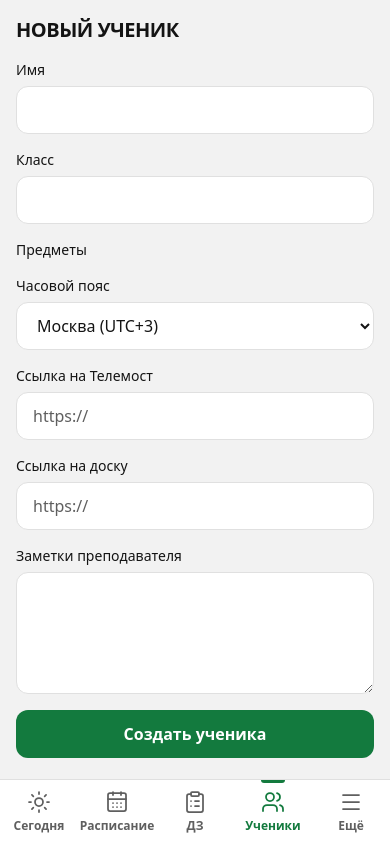
Ученик: карточка и форма › создание: отправляет данные и открывает карточку с приглашением
Type "Аня Иванова" into the field labelled "Имя" at (195, 110), box 16,86 -> 374,134
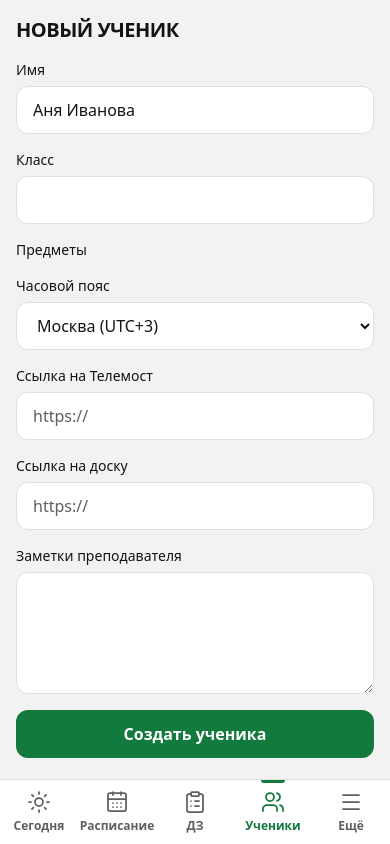
Click the button "Создать ученика" at (195, 734), box 16,710 -> 374,758
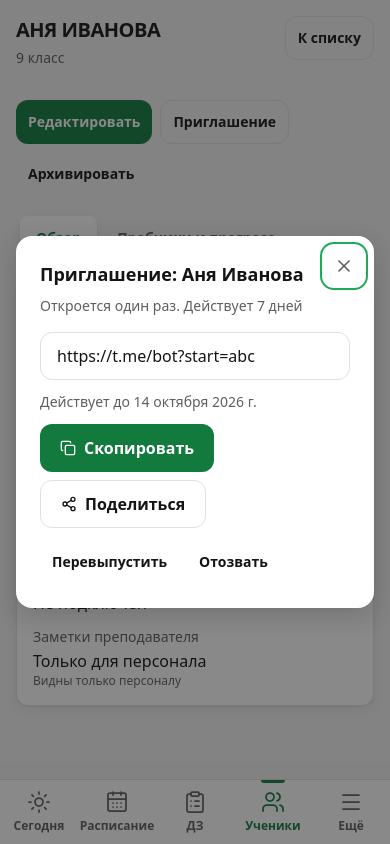
Expected: the field showing "https://t.me/bot?start=abc" is shown, 40,332 -> 350,380
Expected: the button "Скопировать" is shown, 40,424 -> 214,472
